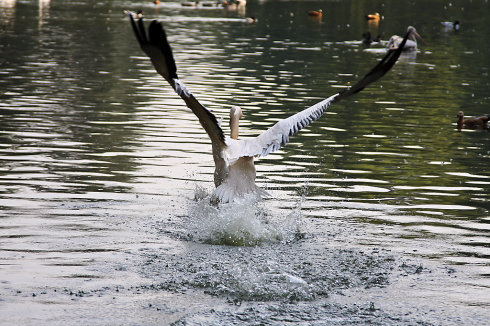bird: (121, 11, 416, 212)
